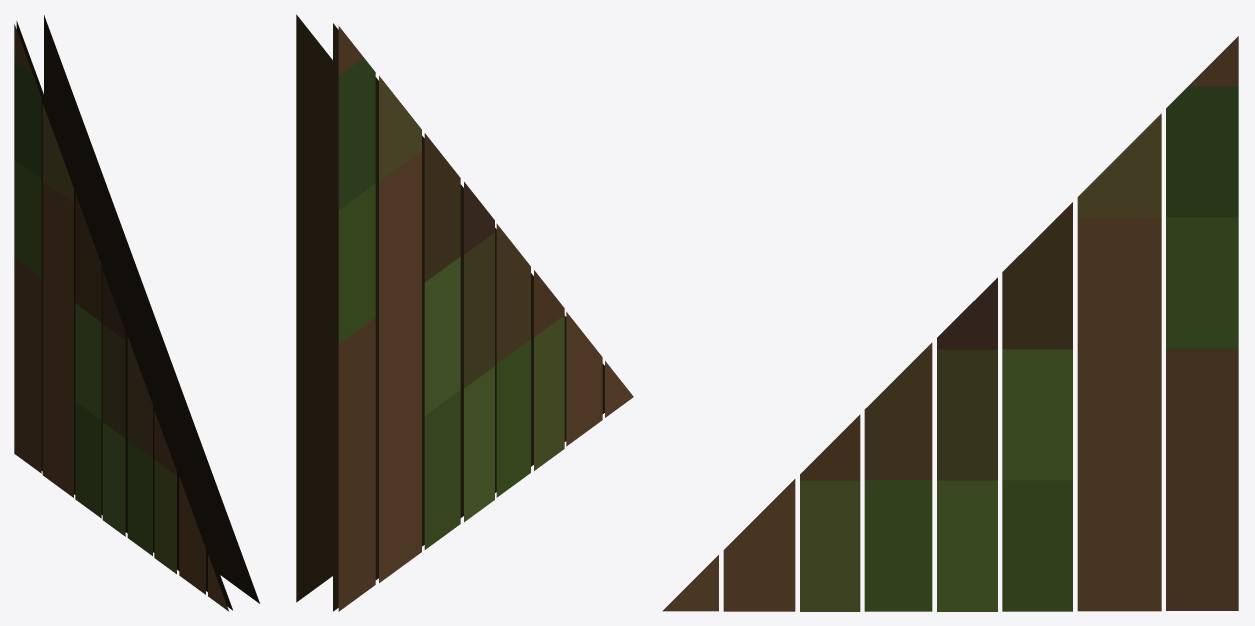
Rendered from wall-mossy-gable-r-steep.glb.
The picture shows the model from 3 angles, left to right: view 1: azimuth 30°, elevation 25°; view 2: azimuth 150°, elevation 25°; view 3: azimuth 270°, elevation 25°; orthographic projection. The views are drawn at different scales.
Visible parts, largest first — view 1: wall-mossy-gable-r-steep; view 2: wall-mossy-gable-r-steep; view 3: wall-mossy-gable-r-steep.
Part boxes in pixels (x1,y1,x2,y2): wall-mossy-gable-r-steep: (14,15,259,611); wall-mossy-gable-r-steep: (296,14,633,611); wall-mossy-gable-r-steep: (662,36,1238,611).
Bounding box in the file's own units: 0.0985 × 1.1 × 1.
